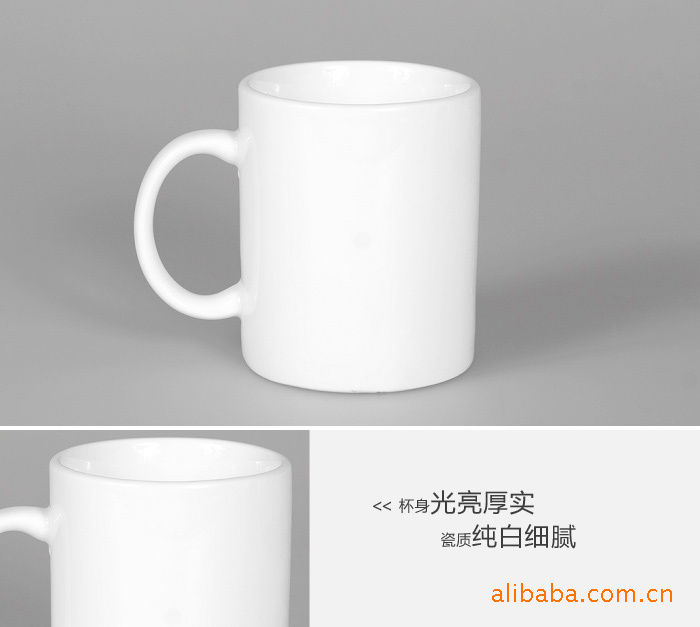cup: (132, 56, 483, 395)
